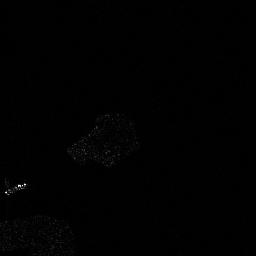ship: (2, 182, 29, 195)
